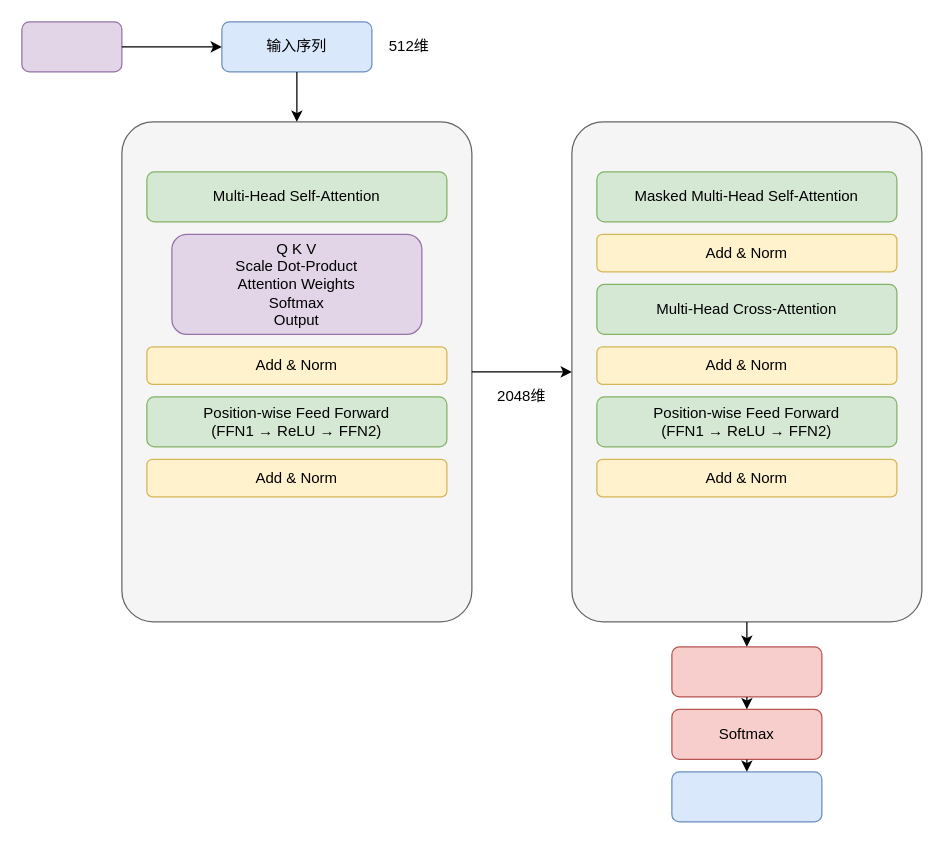
This 944x844 diagram has some shape labels left out. The box of each missing label's shape, as (x1, y1, x2, y2) in pixels:
Decoder Block × 6: (571, 121, 922, 622)
Encoder Block × 6: (121, 121, 472, 622)
Linear: (671, 646, 822, 697)
Positional Encoding: (21, 21, 122, 72)
输出概率: (671, 771, 822, 822)
